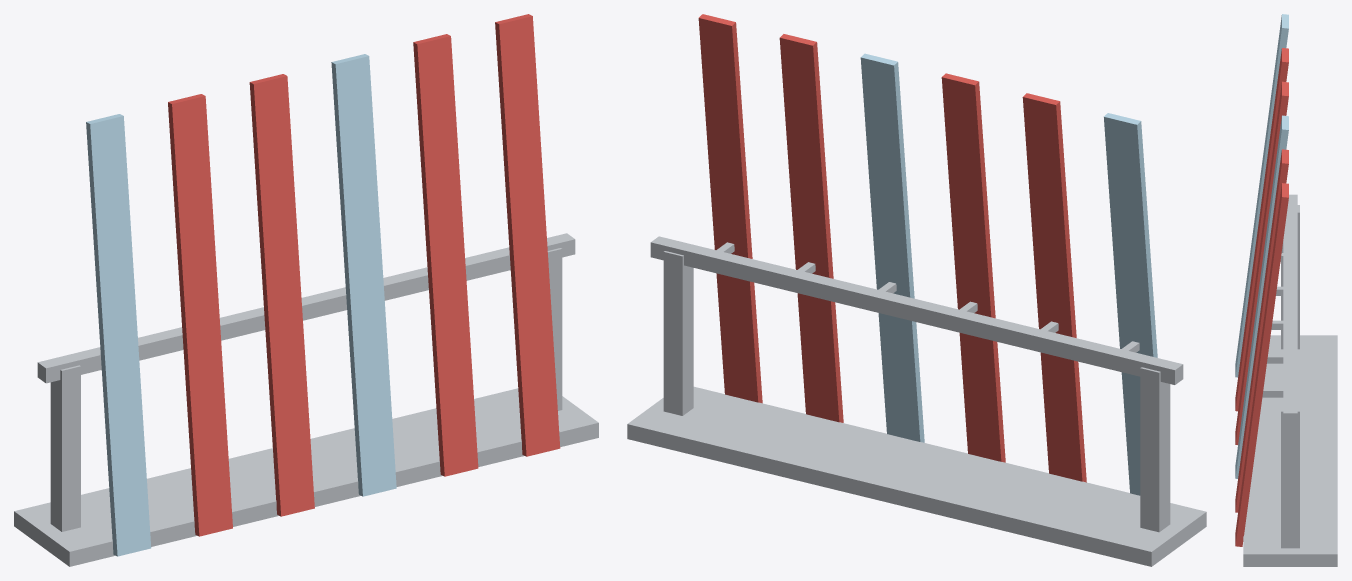
Rendered from ski-resort-and-snow-park-ski-rack-bc5a3b62__26017.glb.
3 renders of one model, left to right at view 1: azimuth 30°, elevation 25°; view 2: azimuth 150°, elevation 25°; view 3: azimuth 270°, elevation 25°, orthographic. The views are drawn at different scales.
Parts seen in each view (by area): view 1: ski-rack; view 2: ski-rack; view 3: ski-rack.
Part boxes in pixels (bbox=[...]): ski-rack: bbox=[14, 14, 598, 566]; ski-rack: bbox=[627, 14, 1206, 566]; ski-rack: bbox=[1235, 14, 1337, 566].
Bounding box in the file's own units: 2.2 × 1.65 × 0.4336.
